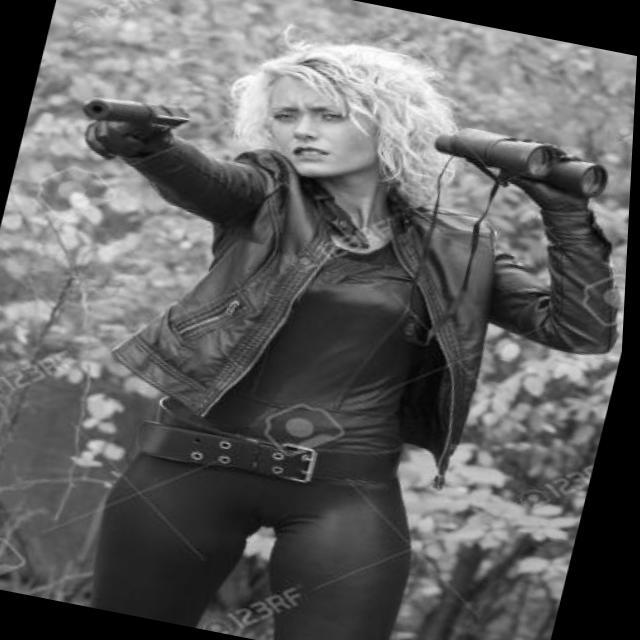weapon: (46, 78, 209, 183)
